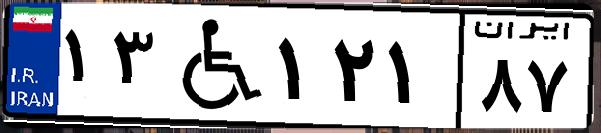1: (270, 28, 330, 110), (385, 28, 445, 110), (57, 26, 110, 100)
2: (330, 28, 385, 110)
3: (110, 28, 158, 98)
7: (525, 38, 570, 115)
8: (475, 38, 525, 113)
ژ (معلولین و جانبازان): (158, 12, 270, 120)
